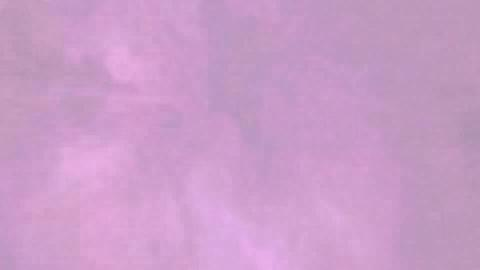tomato: (184, 96, 420, 268), (1, 115, 184, 268), (420, 127, 477, 268)
